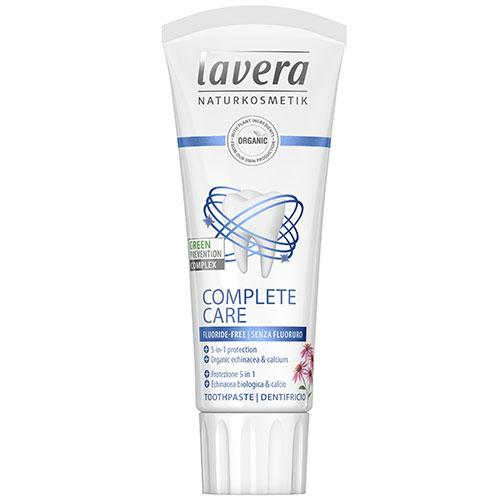toothpaste: (155, 0, 336, 500)
